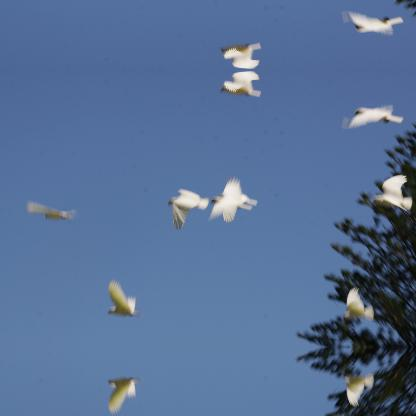Bird: (209, 185, 258, 223), (168, 186, 210, 228), (373, 172, 413, 212), (350, 9, 404, 36), (350, 102, 404, 128), (106, 280, 142, 314), (106, 378, 142, 412), (344, 284, 374, 322), (344, 370, 374, 408), (25, 197, 75, 219), (221, 70, 262, 96), (221, 42, 262, 68)
